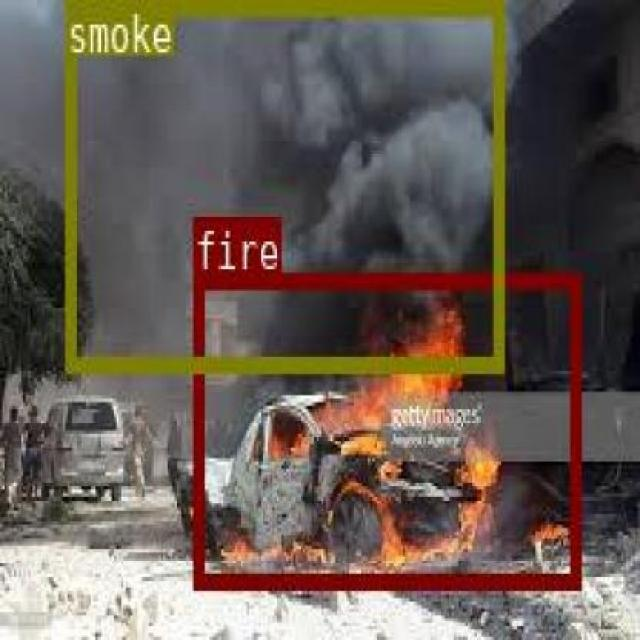Fire: (193, 270, 579, 586)
Smoke: (63, 1, 503, 367)
